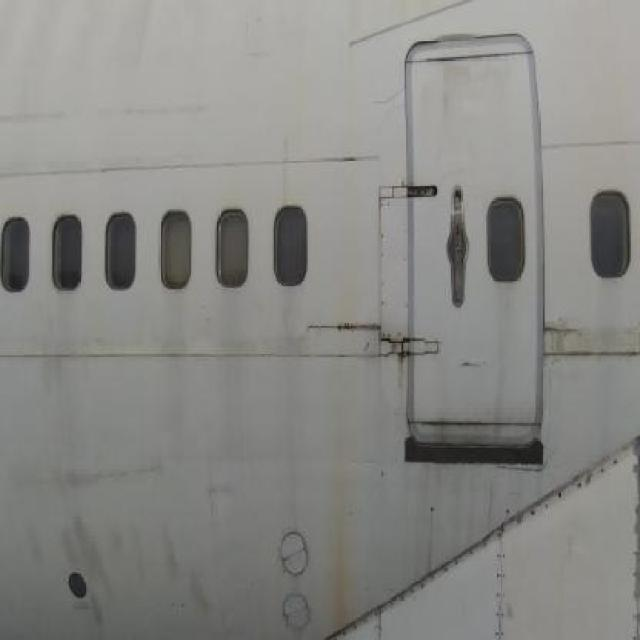Missing-Rivet: (382, 530, 488, 632), (515, 466, 617, 556), (85, 92, 221, 146), (0, 98, 74, 152), (492, 523, 510, 640), (275, 121, 299, 208)
Rust: (312, 410, 365, 638), (326, 183, 365, 328)
Scartch: (2, 509, 226, 637), (3, 449, 172, 503), (544, 308, 598, 388), (200, 472, 238, 512)
